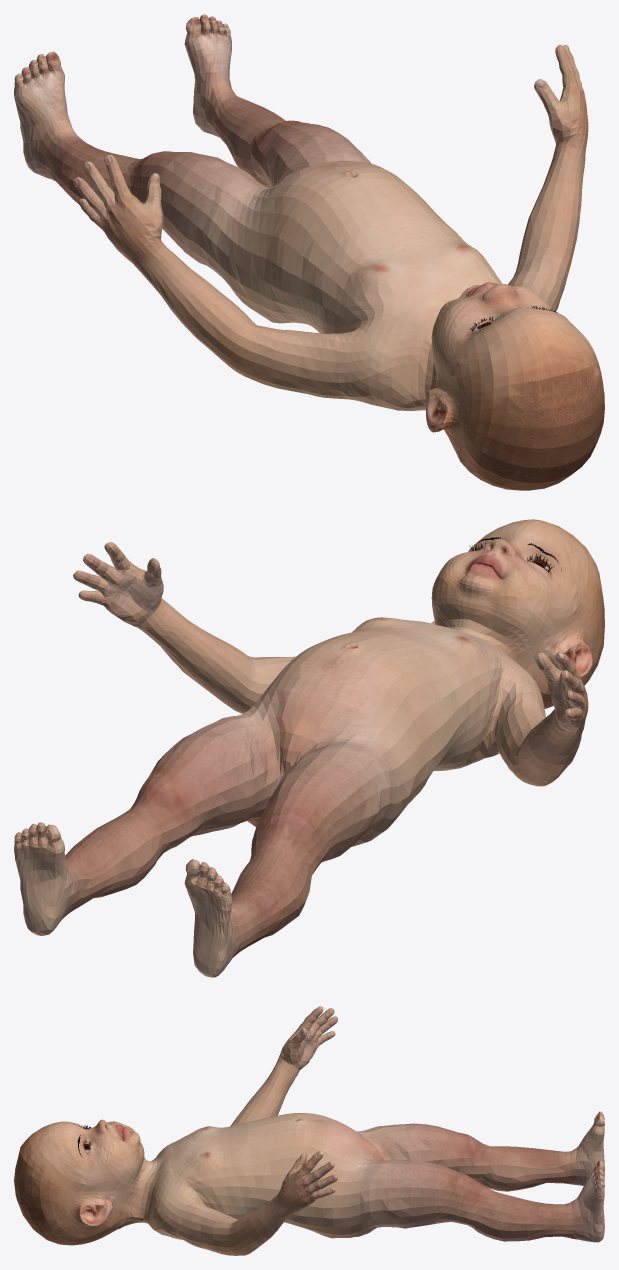
File: baby_body.obj
3 views of the same model, one above another, from view 1: azimuth 30°, elevation 25°; view 2: azimuth 150°, elevation 25°; view 3: azimuth 270°, elevation 25° (orthographic). The views are drawn at different scales.
Size of the model in its own units: 346 by 162 by 538.
Materials: 6 (6 with a texture image).
